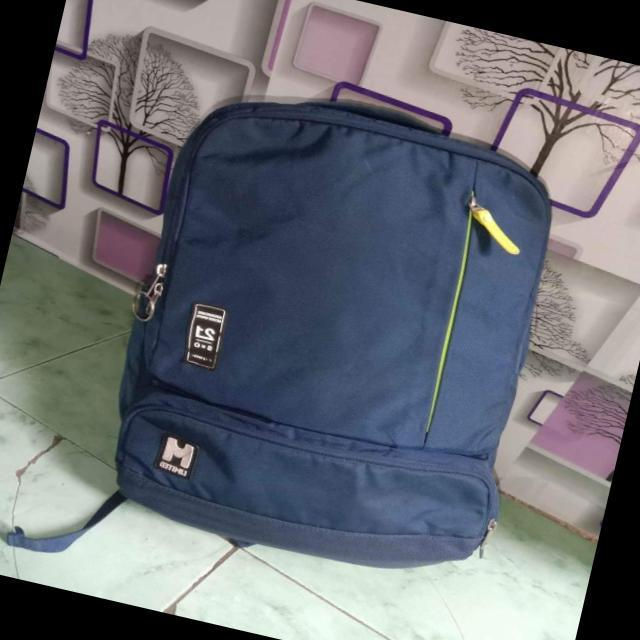bag: (125, 100, 543, 557)
